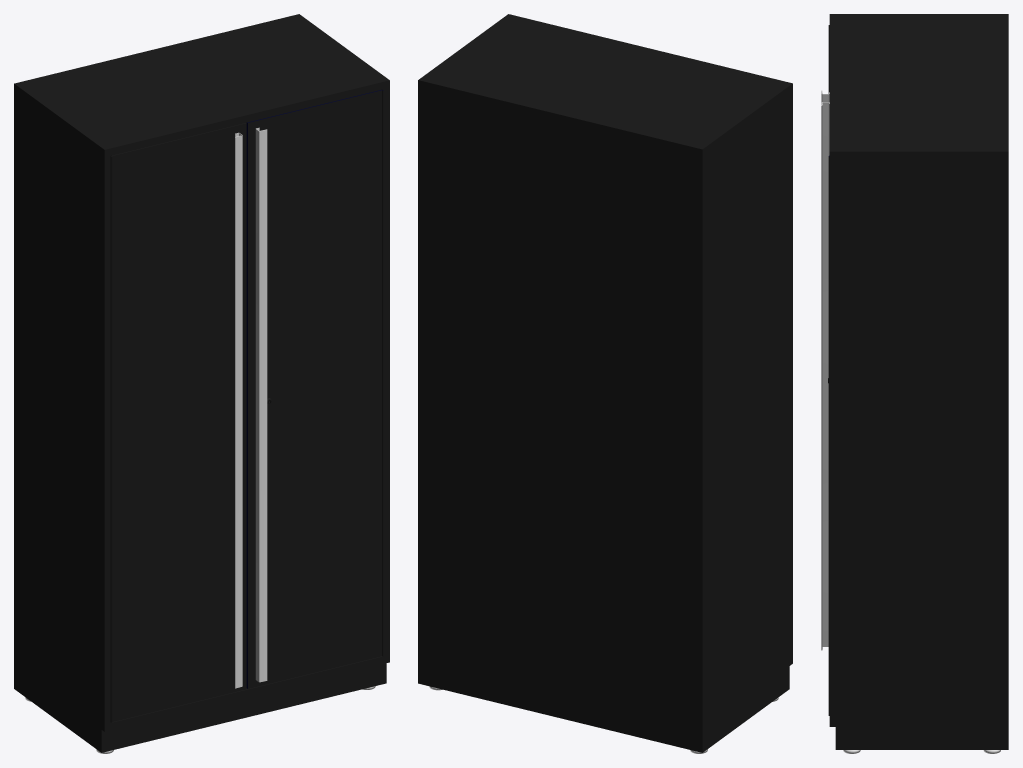
File: tallCabinet.glb
3 renders of one model, left to right at view 1: azimuth 30°, elevation 25°; view 2: azimuth 150°, elevation 25°; view 3: azimuth 270°, elevation 25°, orthographic.
Visible parts, largest first — view 1: doors, shellFp, handlesFp, hingeFp; view 2: shellFp; view 3: shellFp, handlesFp, hingeFp.
Part boxes in pixels (left/top/right/bottom): doors: left=111, top=90, right=383, bottom=721; shellFp: left=14, top=14, right=389, bottom=752; handlesFp: left=235, top=127, right=267, bottom=688; hingeFp: left=110, top=90, right=383, bottom=722; shellFp: left=418, top=14, right=792, bottom=752; shellFp: left=829, top=14, right=1008, bottom=749; handlesFp: left=821, top=90, right=829, bottom=650; hingeFp: left=828, top=25, right=829, bottom=715.
Size of the model in its own units: 1.02 by 2.08 by 0.5842.
5 materials, 1 textured.
